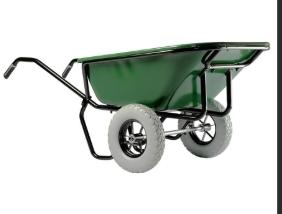BROUETTE: (0, 37, 282, 187)
